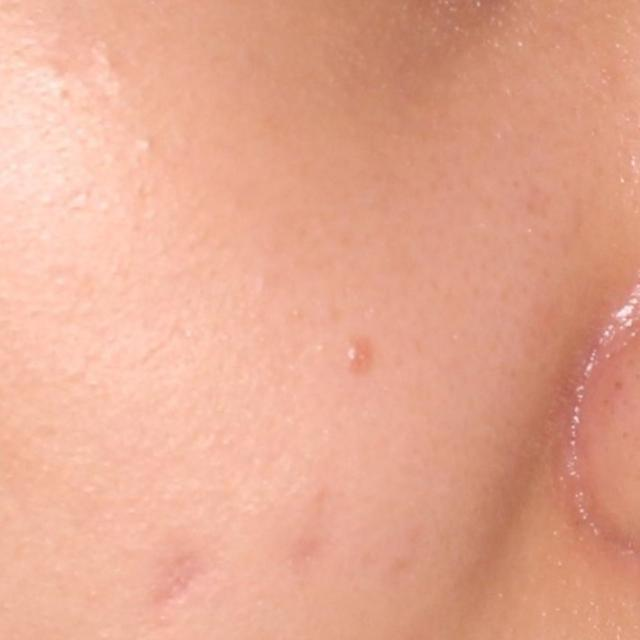blackhead: (612, 379, 627, 396)
